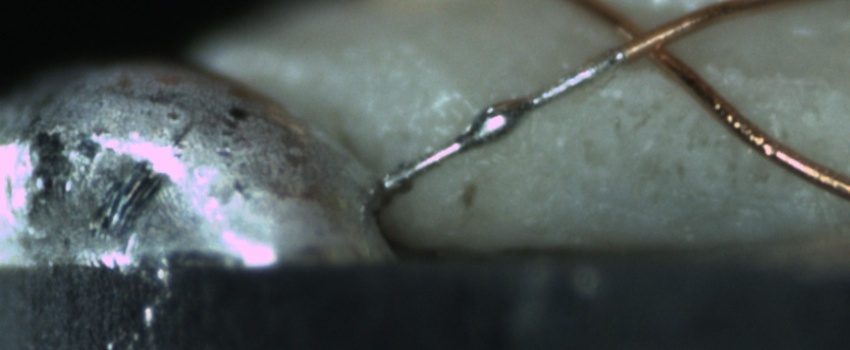CL: (602, 11, 689, 73)
DL: (589, 52, 850, 99)
TB: (469, 97, 534, 153)
TS: (383, 49, 626, 189)
TTCW: (370, 23, 671, 202)
